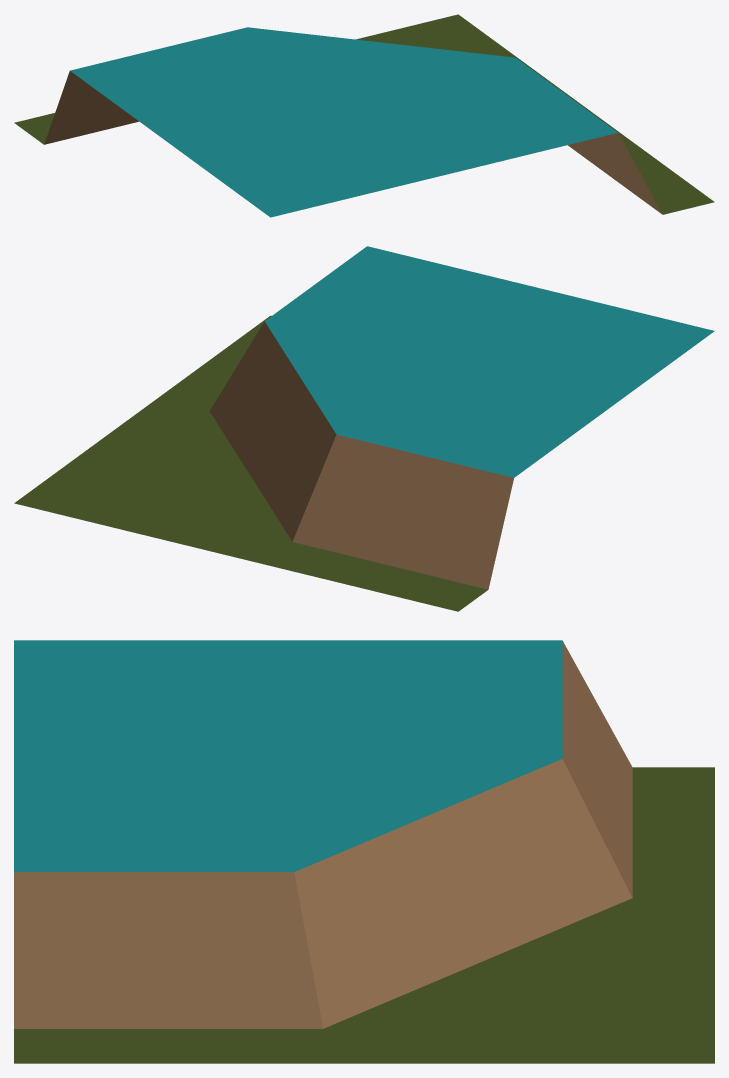
The model's file is TB_Env_Mountain_G.FBX.
3 views of the same model, one above another, from view 1: azimuth 30°, elevation 25°; view 2: azimuth 150°, elevation 25°; view 3: azimuth 270°, elevation 25° (orthographic). The views are drawn at different scales.
Parts seen in each view (by area): view 1: TB_Env_Mountain_G; view 2: TB_Env_Mountain_G; view 3: TB_Env_Mountain_G.
Boxes of the visible parts, <box> form: TB_Env_Mountain_G: <box>14,14,714,217</box>; TB_Env_Mountain_G: <box>14,246,714,611</box>; TB_Env_Mountain_G: <box>14,640,714,1063</box>.
Bounding box in the file's own units: 10 × 2 × 10.
Materials: 1 (1 with a texture image).
